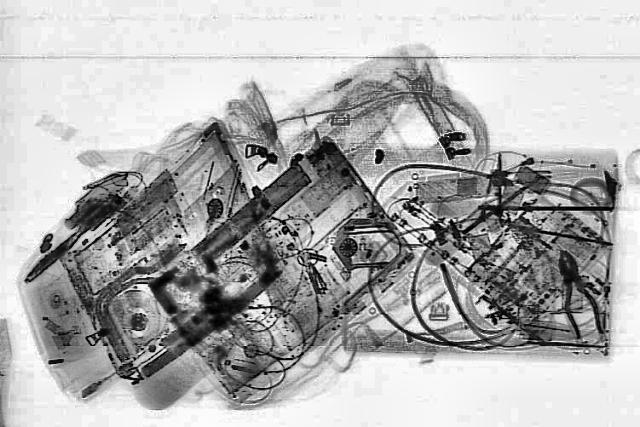Pliers: (544, 247, 608, 339)
